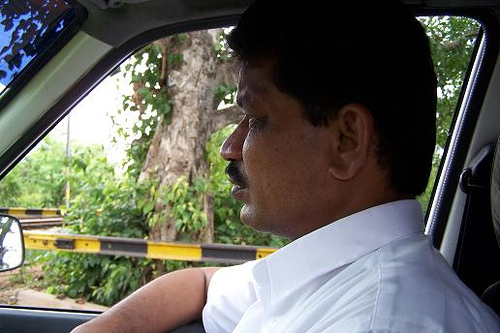without_mask: (211, 36, 382, 238)
